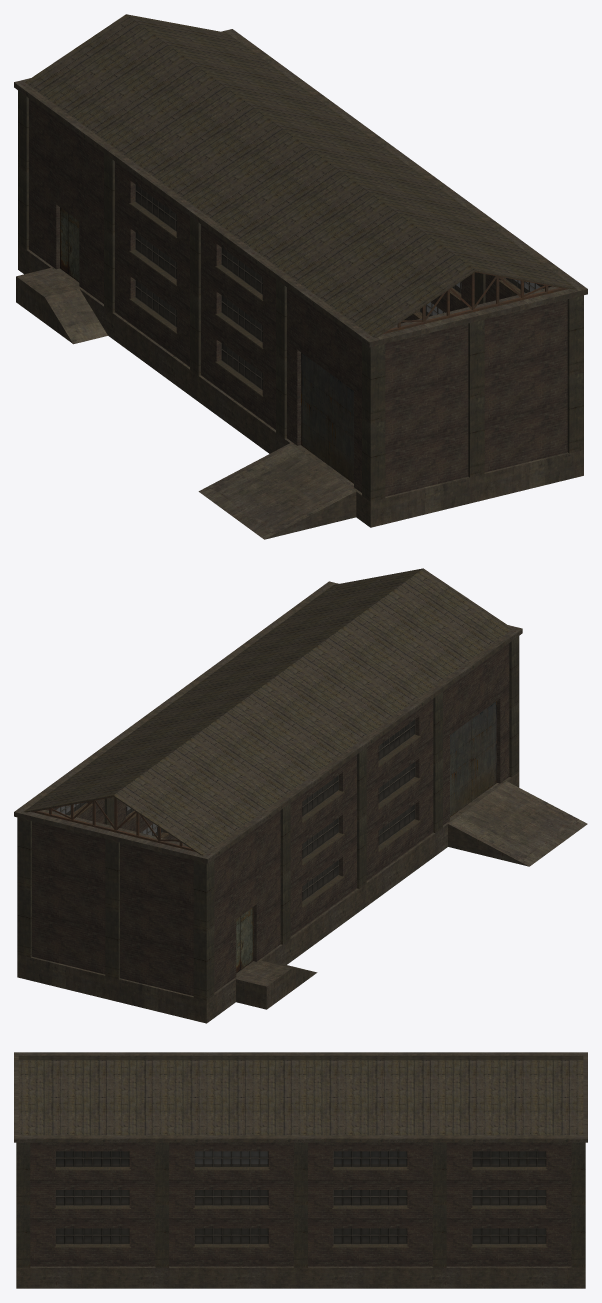
The model's file is warehouse_mx_4.obj.
3 renders of one model, top to bottom at view 1: azimuth 30°, elevation 25°; view 2: azimuth 150°, elevation 25°; view 3: azimuth 270°, elevation 25°, orthographic. The views are drawn at different scales.
Visible parts, largest first — view 1: warehouse_mx_4, garage_door_hr_4_a_piece_1, garage_door_hr_4_a_piece_2, door_hm_1_a_piece_2; view 2: warehouse_mx_4, garage_door_hr_4_a_piece_2, garage_door_hr_4_a_piece_1, door_hm_1_a_piece_2; view 3: warehouse_mx_4.
Boxes of the visible parts, x1,y1,x2,y2 form: warehouse_mx_4: (14,14,587,539); garage_door_hr_4_a_piece_1: (301,352,328,465); garage_door_hr_4_a_piece_2: (329,373,353,483); door_hm_1_a_piece_2: (68,214,79,282); warehouse_mx_4: (14,568,587,1023); garage_door_hr_4_a_piece_2: (471,701,496,800); garage_door_hr_4_a_piece_1: (450,719,471,816); door_hm_1_a_piece_2: (240,907,253,969); warehouse_mx_4: (14,1052,587,1288).
Bounding box in the file's own units: 12.4 × 8.87 × 24.8.
